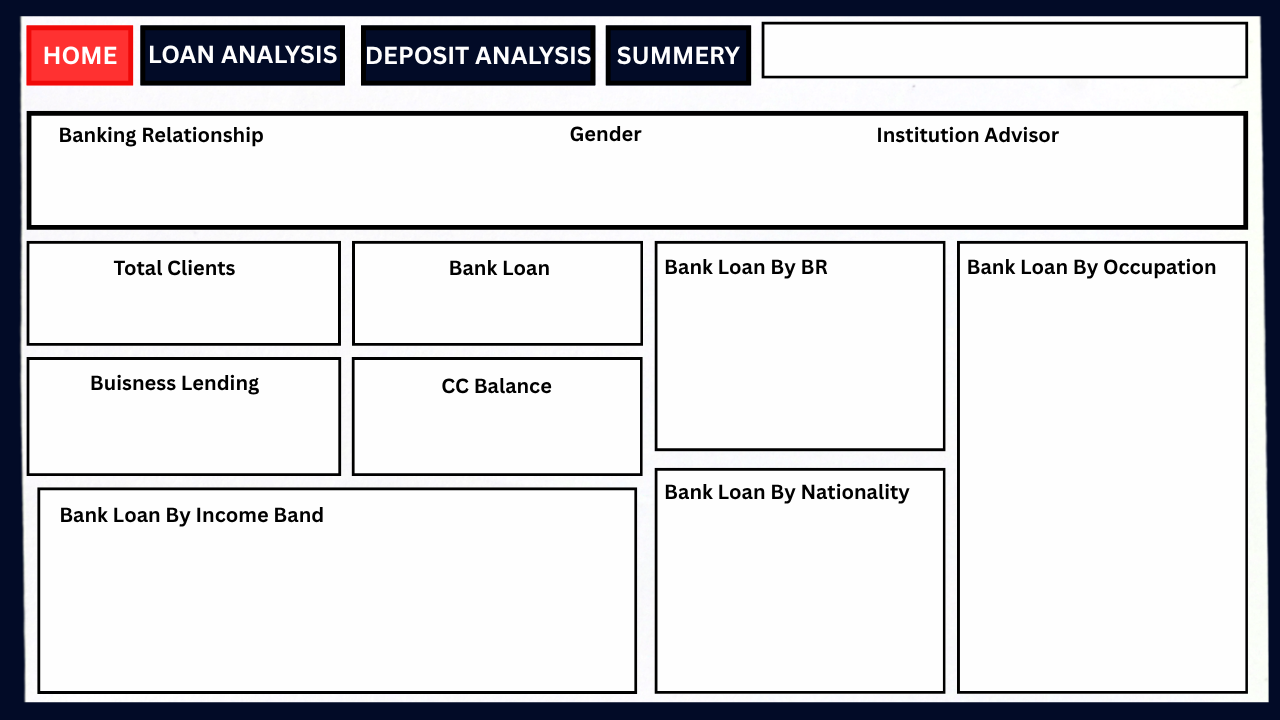

The page's visual inventory and layout, read from the dashboard file:
{"tool":"powerbi","page":{"name":"Home","canvas":[1920,1080],"ordinal":1},"visuals":[{"type":"slicer","fields":{"Values":["date.Joined Bank"]},"box":[1161.8,123.1,678.6,57.9],"z":0},{"type":"slicer","fields":{"Values":["banking_case customer.GenderId"]},"box":[1138.3,282.3,662.3,123.1],"z":1000},{"type":"cardVisual","fields":{"Data":["CountNonNull(banking_case customer.Name)"]},"box":[1091.2,447,293.2,258.8],"z":2000},{"type":"cardVisual","fields":{"Data":["Sum(banking_case customer.Bank Loans)"]},"box":[1558.1,427.1,300,300],"z":3000},{"type":"cardVisual","fields":{"Data":["Sum(banking_case customer.Bank Deposits)"]},"box":[1084,577.3,300,300],"z":4000},{"type":"cardVisual","fields":{"Data":["Sum(banking_case customer.Checking Accounts)"]},"box":[1540,577.3,300,300],"z":5000},{"type":"cardVisual","fields":{"Data":["Sum(banking_case customer.Saving Accounts)"]},"box":[1055,780,300,300],"z":6000},{"type":"cardVisual","fields":{"Data":["Sum(banking_case customer.Business Lending)"]},"box":[1559.9,780,300,300],"z":7000},{"type":"actionButton","box":[74.2,564.6,334.8,95.9],"z":8000},{"type":"actionButton","box":[494,564.6,360.1,95.9],"z":9000},{"type":"actionButton","box":[325.7,780,295,95.9],"z":10000}]}

Visuals, with their boxes in screenshot pixels (x1, y1, x2, y2), scaled from the page's 1920x1080 canvas onto the 1280x720 screenshot:
slicer - date.Joined Bank: left=775, top=82, right=1227, bottom=121
slicer - banking_case customer.GenderId: left=759, top=188, right=1200, bottom=270
cardVisual - CountNonNull(banking_case customer.Name): left=727, top=298, right=923, bottom=471
cardVisual - Sum(banking_case customer.Bank Loans): left=1039, top=285, right=1239, bottom=485
cardVisual - Sum(banking_case customer.Bank Deposits): left=723, top=385, right=923, bottom=585
cardVisual - Sum(banking_case customer.Checking Accounts): left=1027, top=385, right=1227, bottom=585
cardVisual - Sum(banking_case customer.Saving Accounts): left=703, top=520, right=903, bottom=719
cardVisual - Sum(banking_case customer.Business Lending): left=1040, top=520, right=1240, bottom=719
actionButton: left=49, top=376, right=273, bottom=440
actionButton: left=329, top=376, right=569, bottom=440
actionButton: left=217, top=520, right=414, bottom=584
